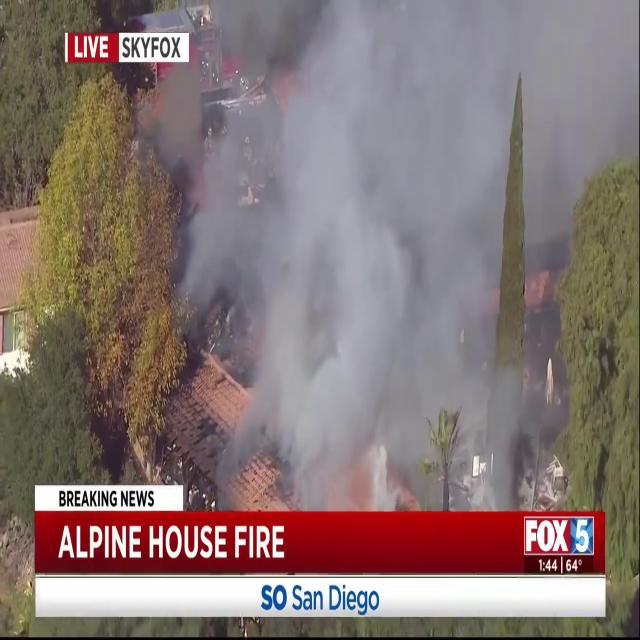Smoke: (172, 0, 532, 513)
